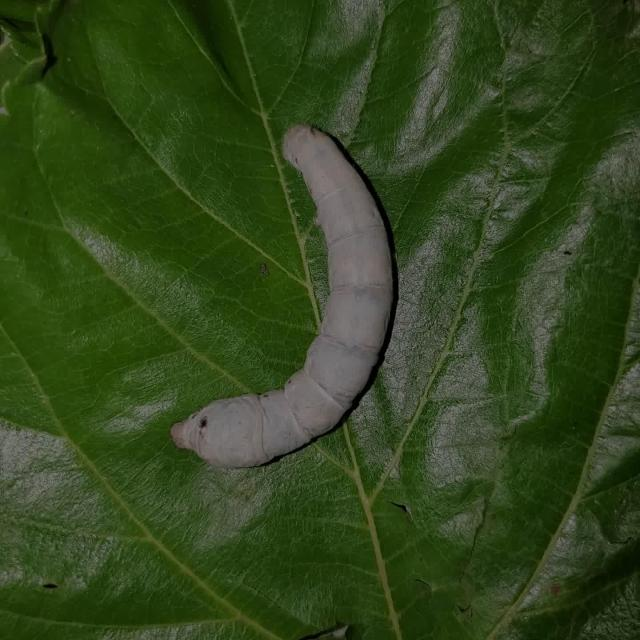Healthy: (151, 88, 424, 486)
